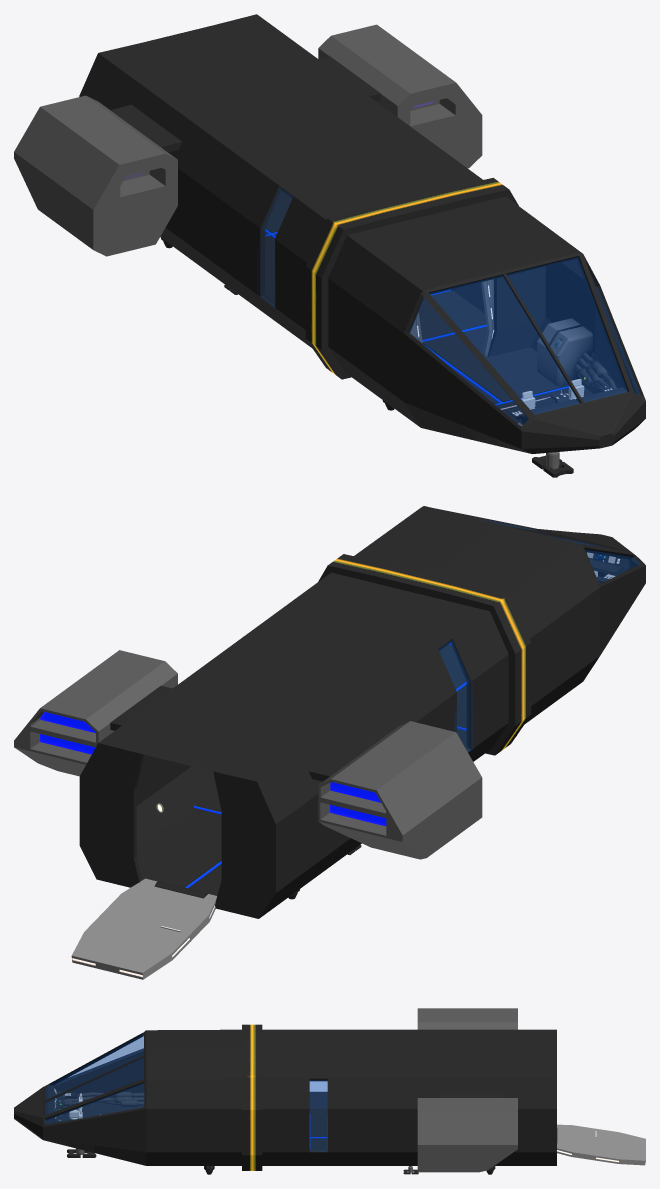
The model's file is spaceship.fbx.
3 renders of one model, top to bottom at view 1: azimuth 30°, elevation 25°; view 2: azimuth 150°, elevation 25°; view 3: azimuth 270°, elevation 25°, orthographic. The views are drawn at different scales.
Parts seen in each view (by area): view 1: joinedbakedbodyship, frontwindow.005-dontbake, frontwindow.004dontbake, sidewindow.003-dontbake, insidedoor_L.001; view 2: joinedbakedbodyship, bakedexitdoor, sidewindow.003-dontbake, frontwindow.004dontbake; view 3: joinedbakedbodyship, frontwindow.005-dontbake, bakedexitdoor, frontwindow.003-dontbake, sidewindow.002-dontbake, frontwindow.004dontbake.
Boxes of the visible parts, x1=… form: joinedbakedbodyship: x1=14, y1=14, x2=645, y2=453; frontwindow.005-dontbake: x1=430, y1=257, x2=627, y2=414; frontwindow.004dontbake: x1=409, y1=297, x2=528, y2=425; sidewindow.003-dontbake: x1=258, y1=187, x2=292, y2=307; insidedoor_L.001: x1=481, y1=279, x2=494, y2=356; joinedbakedbodyship: x1=14, y1=506, x2=645, y2=918; bakedexitdoor: x1=71, y1=878, x2=216, y2=979; sidewindow.003-dontbake: x1=439, y1=640, x2=472, y2=752; frontwindow.004dontbake: x1=585, y1=550, x2=640, y2=583; joinedbakedbodyship: x1=14, y1=1008, x2=556, y2=1174; frontwindow.005-dontbake: x1=46, y1=1034, x2=143, y2=1114; bakedexitdoor: x1=557, y1=1124, x2=645, y2=1165; frontwindow.003-dontbake: x1=45, y1=1083, x2=143, y2=1124; sidewindow.002-dontbake: x1=310, y1=1080, x2=327, y2=1151; frontwindow.004dontbake: x1=59, y1=1037, x2=143, y2=1082.
Bounding box in the file's own units: 920 × 378 × 2044.
